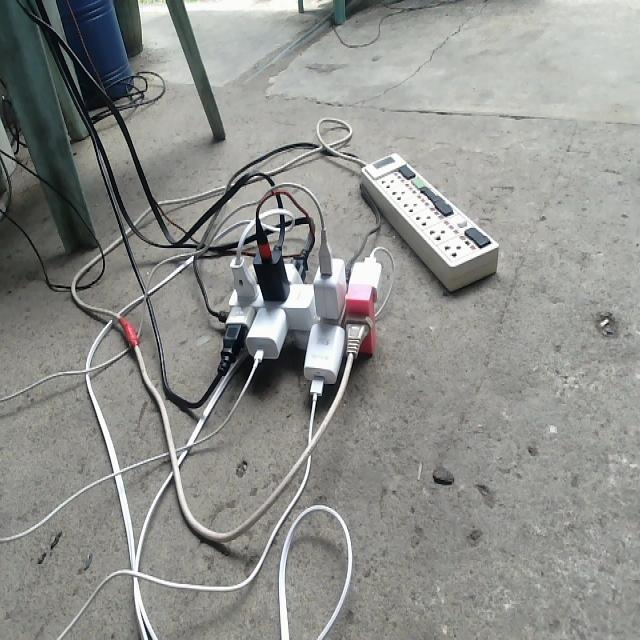-: (219, 233, 383, 396)
